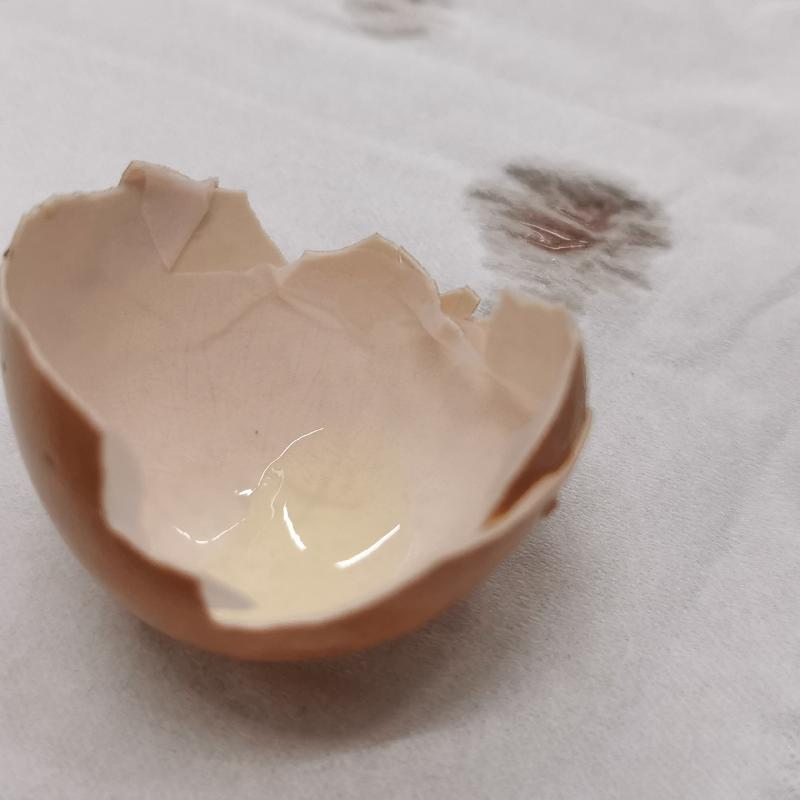eggshell: (8, 159, 598, 667)
